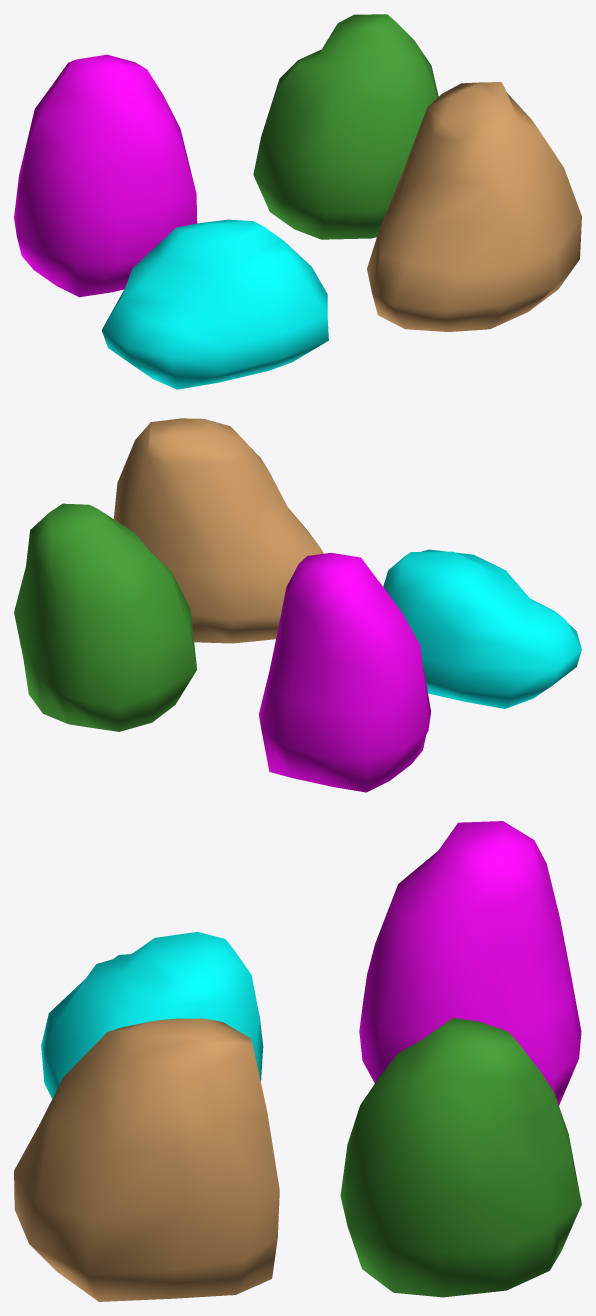
The model's file is rocks_ruins.fbx.
3 renders of one model, top to bottom at view 1: azimuth 30°, elevation 25°; view 2: azimuth 150°, elevation 25°; view 3: azimuth 270°, elevation 25°, orthographic. The views are drawn at different scales.
Visible parts, largest first — view 1: big_rock03, big_rock01, big_rock02, small_rock01; view 2: big_rock02, big_rock01, big_rock03, small_rock01; view 3: big_rock03, big_rock02, big_rock01, small_rock01.
Part boxes in pixels (box(x1,y1,x2,y2)): big_rock03: box(367, 82, 581, 331); big_rock01: box(14, 54, 197, 297); big_rock02: box(253, 14, 438, 239); small_rock01: box(101, 219, 328, 389); big_rock02: box(14, 503, 196, 731); big_rock01: box(259, 552, 431, 792); big_rock03: box(114, 418, 323, 643); small_rock01: box(383, 549, 581, 708); big_rock03: box(14, 1018, 279, 1301); big_rock02: box(340, 1018, 581, 1297); big_rock01: box(359, 821, 581, 1105); small_rock01: box(41, 932, 263, 1098).
Size of the model in its own units: 282 by 122 by 235.
